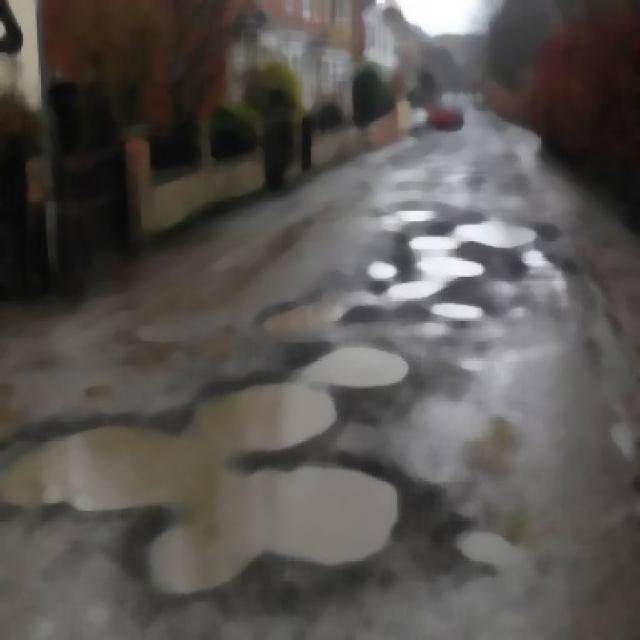Pothole: (1, 287, 392, 607), (387, 189, 570, 322)
